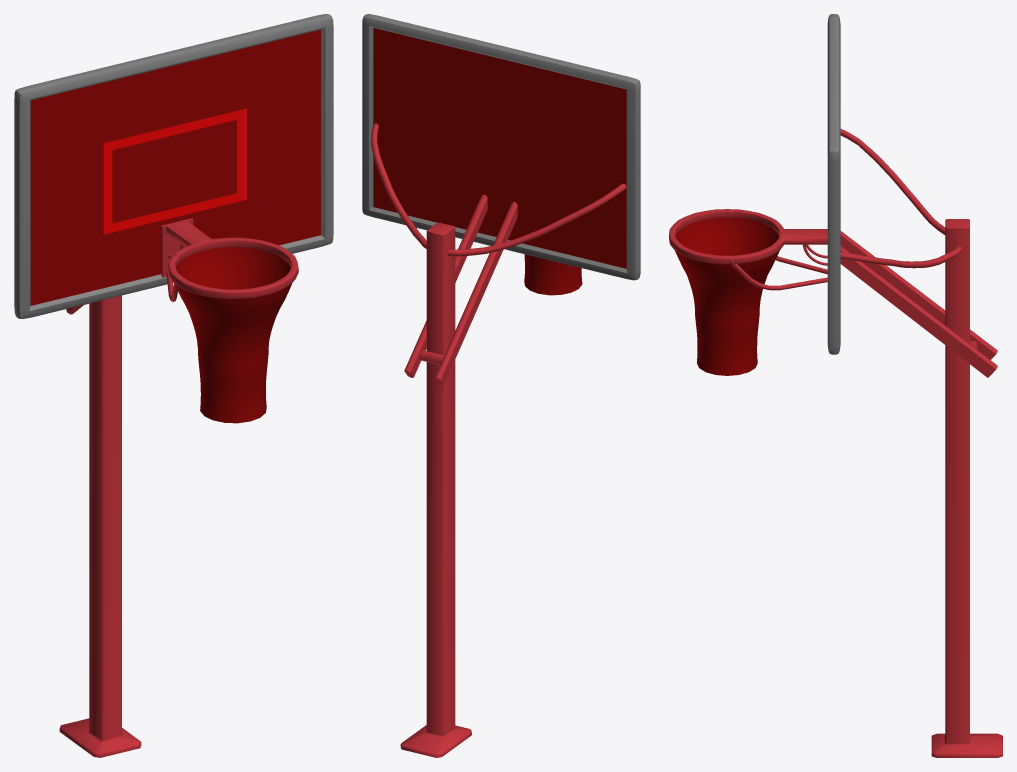
Rendered from BasketNet_Model.FBX.
The picture shows the model from 3 angles, left to right: view 1: azimuth 30°, elevation 25°; view 2: azimuth 150°, elevation 25°; view 3: azimuth 270°, elevation 25°; orthographic projection. The views are drawn at different scales.
Visible parts, largest first — view 1: BasketNet_Model; view 2: BasketNet_Model; view 3: BasketNet_Model.
Boxes of the visible parts, x1,y1,x2,y2 form: BasketNet_Model: (14,14,333,757); BasketNet_Model: (362,14,640,757); BasketNet_Model: (669,14,1002,757).
Bounding box in the file's own units: 102 × 229 × 104.
2 materials, 1 textured.
